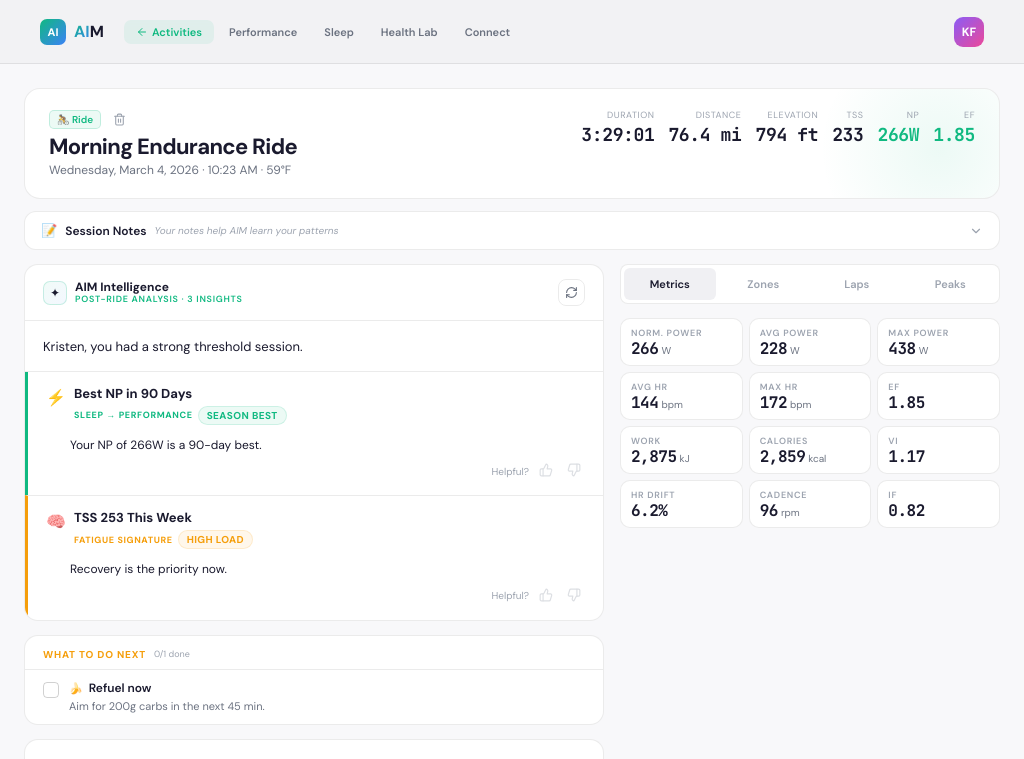
ActivityDetail Page › switches data panel tabs on click
Expected: the button "Metrics" is shown, [624,268,716,300]
Note: Click Zones tab
Click the button "Zones" at (763, 284), box [718,268,809,300]
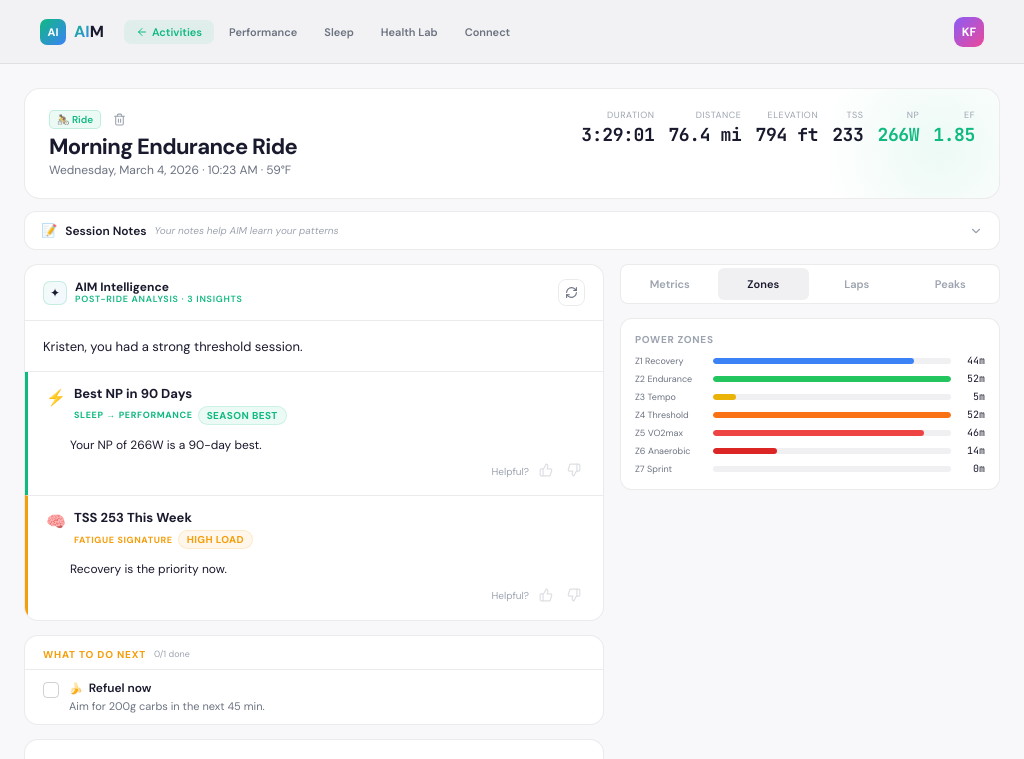
Expected: the text "Power Zones" is shown, [635,333,714,346]
